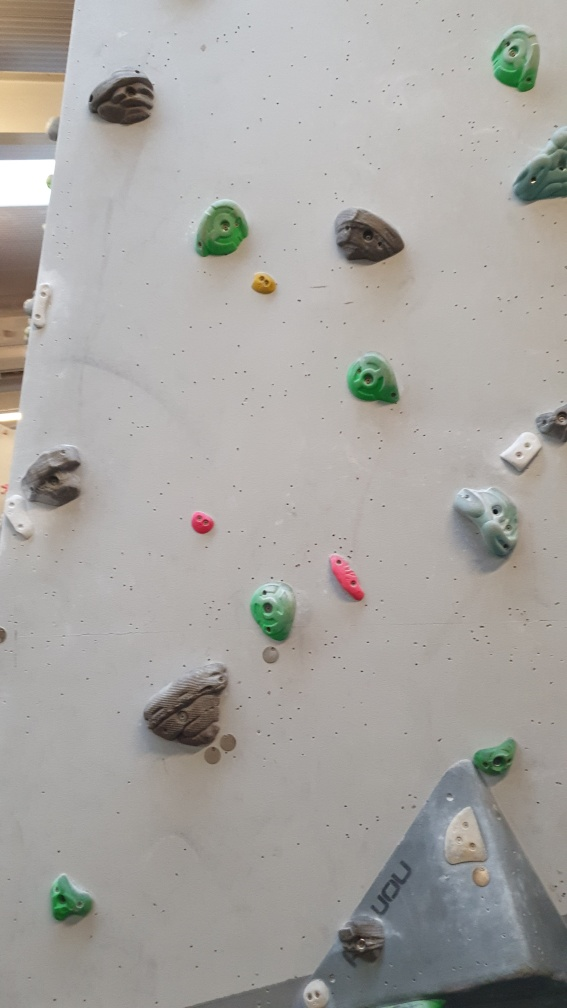Crimp: (328, 548, 369, 607), (499, 429, 547, 479), (29, 279, 52, 329)
Hand Start: (466, 864, 496, 889), (219, 724, 239, 755), (260, 644, 283, 665), (201, 744, 220, 764)
Jug: (141, 659, 229, 748), (456, 484, 522, 568), (502, 119, 567, 204), (22, 441, 82, 511), (331, 209, 407, 263), (88, 67, 155, 128), (490, 25, 542, 95), (195, 200, 252, 259), (250, 579, 300, 643), (342, 351, 402, 404), (472, 734, 520, 776)
Pinch: (246, 270, 282, 298), (187, 506, 217, 535)
